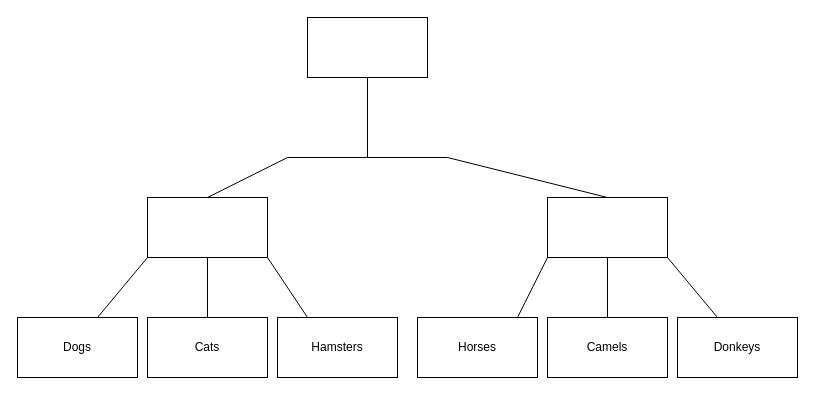
Some shapes in this 815 by 395 pixel diagram are drawn without their labels. The shapes that lost their labels are listed below. From the top down, each one's centre as x and y in pixels, then its label:
At [367,47]: "Animals".
At [207,227]: "Pets".
At [607,227]: "Pack animals".
